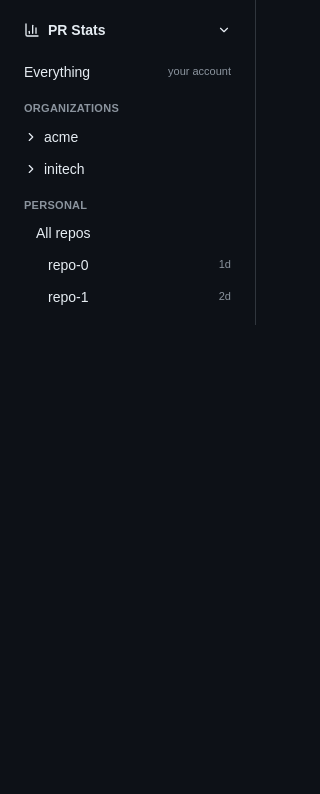
StatsSidebar: truncation is never silent › says when a repo list is shorter than GitHub's own count
Click the button "acme". click: (128, 136)
box: [12,120,243,152]
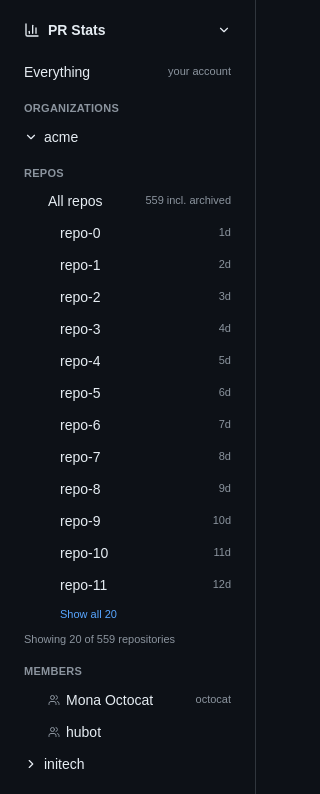
Expected: the text "Showing 20 of 559 repositories" is shown, [24,632,175,644]
